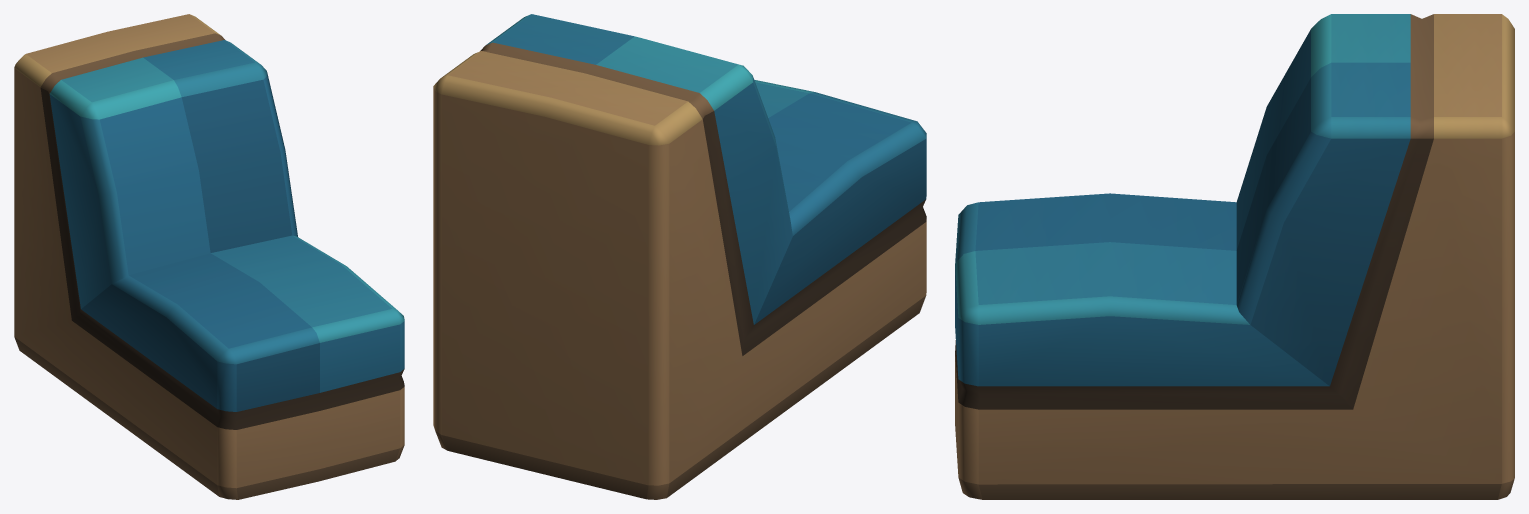
Rendered from seating_outdoor1_2_half_LOD_setup.fbx.
3 views of the same model, side by side, from view 1: azimuth 30°, elevation 25°; view 2: azimuth 150°, elevation 25°; view 3: azimuth 270°, elevation 25° (orthographic). The views are drawn at different scales.
Visible parts, largest first — view 1: seating_outdoor1_2_half_LOD0; view 2: seating_outdoor1_2_half_LOD0; view 3: seating_outdoor1_2_half_LOD0.
Part boxes in pixels (x1,y1,x2,y2): seating_outdoor1_2_half_LOD0: (14, 14, 404, 499); seating_outdoor1_2_half_LOD0: (433, 14, 926, 499); seating_outdoor1_2_half_LOD0: (955, 14, 1514, 499).
Size of what is drawn, in the model's own units: 49.87 by 75.57 by 101.
